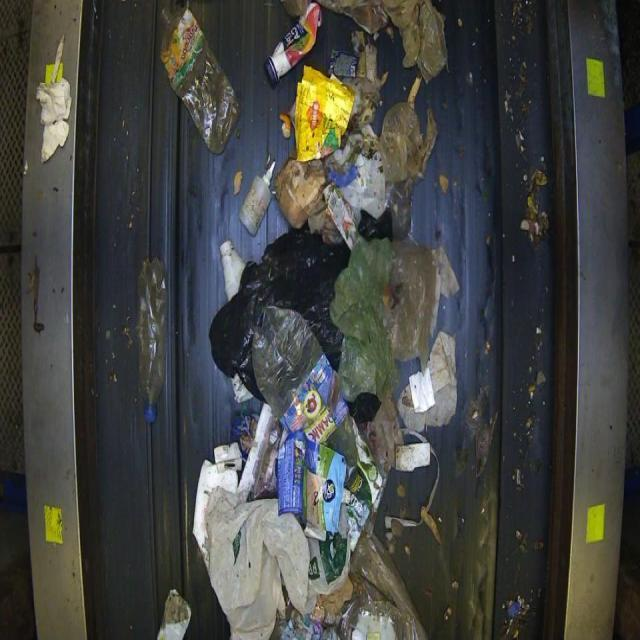cups: (263, 1, 322, 87), (238, 159, 276, 236)
